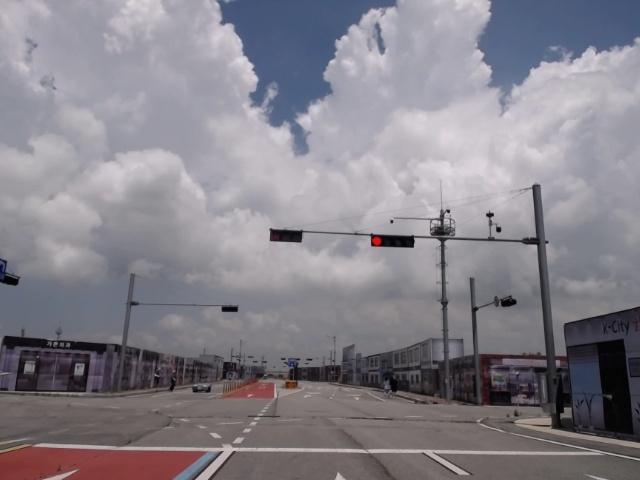red_4: (371, 234, 414, 248)
